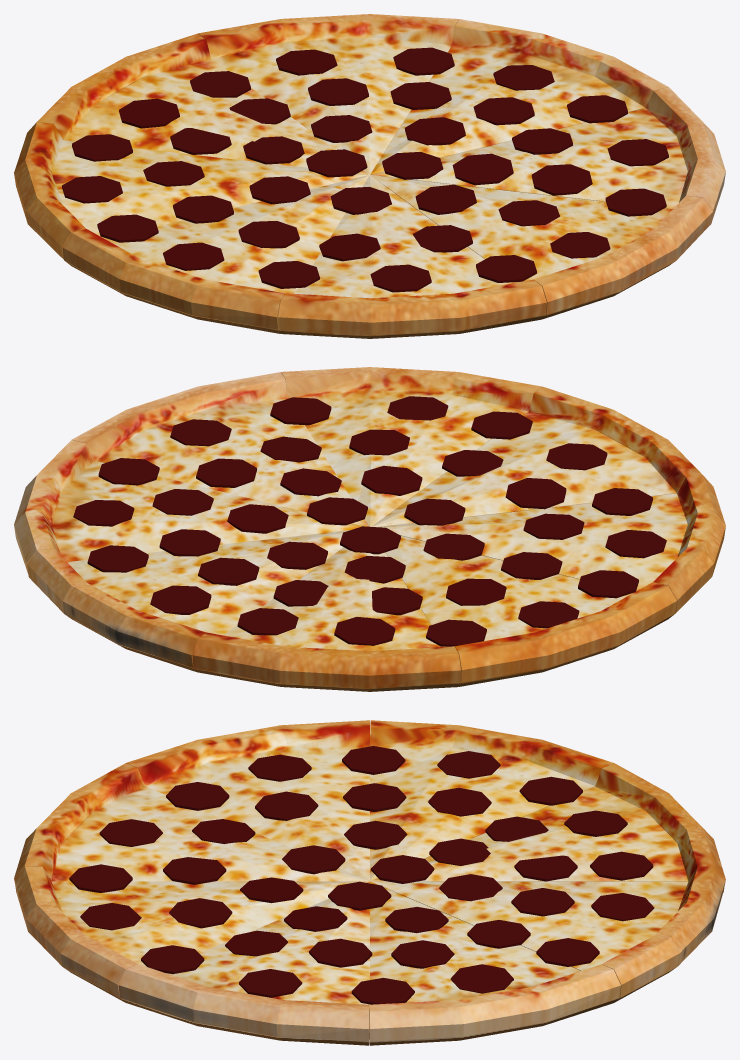
File: pizza.obj
3 views of the same model, one above another, from view 1: azimuth 30°, elevation 25°; view 2: azimuth 150°, elevation 25°; view 3: azimuth 270°, elevation 25° (orthographic).
Bounding box in the file's own units: 5.33 × 0.3048 × 5.33.
2 materials, 1 textured.
